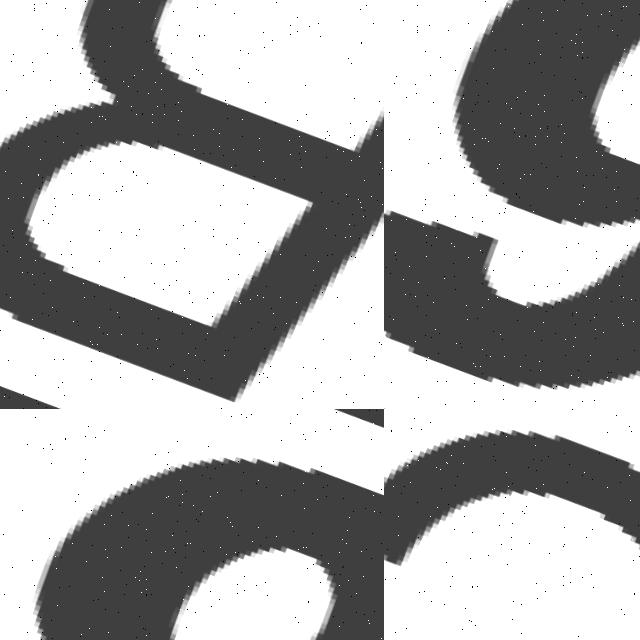6: (384, 0, 640, 409)
8: (0, 409, 384, 640)
C: (384, 432, 640, 567)
